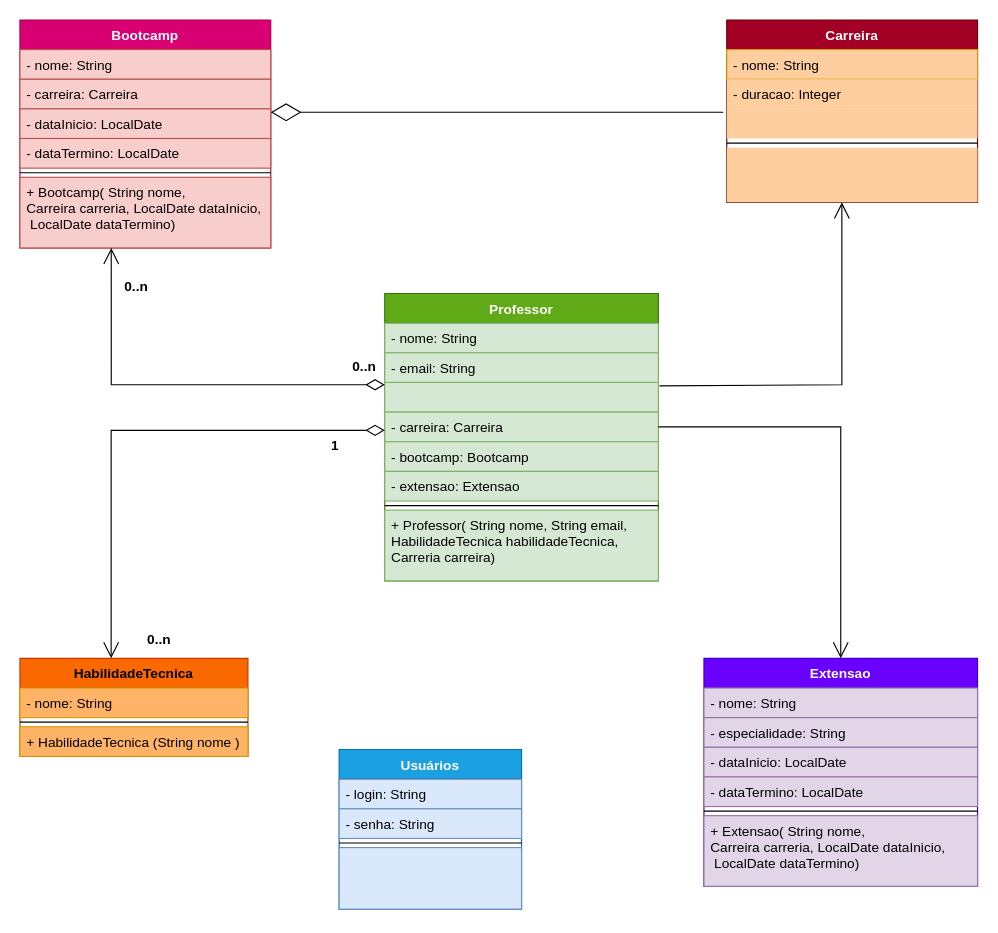
Some shapes in this 998 by 933 pixel diagram are drawn without their labels. Here are the shapes that lost their labels. From the top down, the centre of each, then its label:
At pixel 851 123: "- duracaoProjetoFinal: Integer".
At pixel 851 174: "+ Carreria (String nome, Integer duracao, Integer duracaoProjetoFinal)".
At pixel 521 396: "- habilidadeTecnica: HabilidadeTecnica".
At pixel 430 877: "+ Usuario( String login, String senha )".
